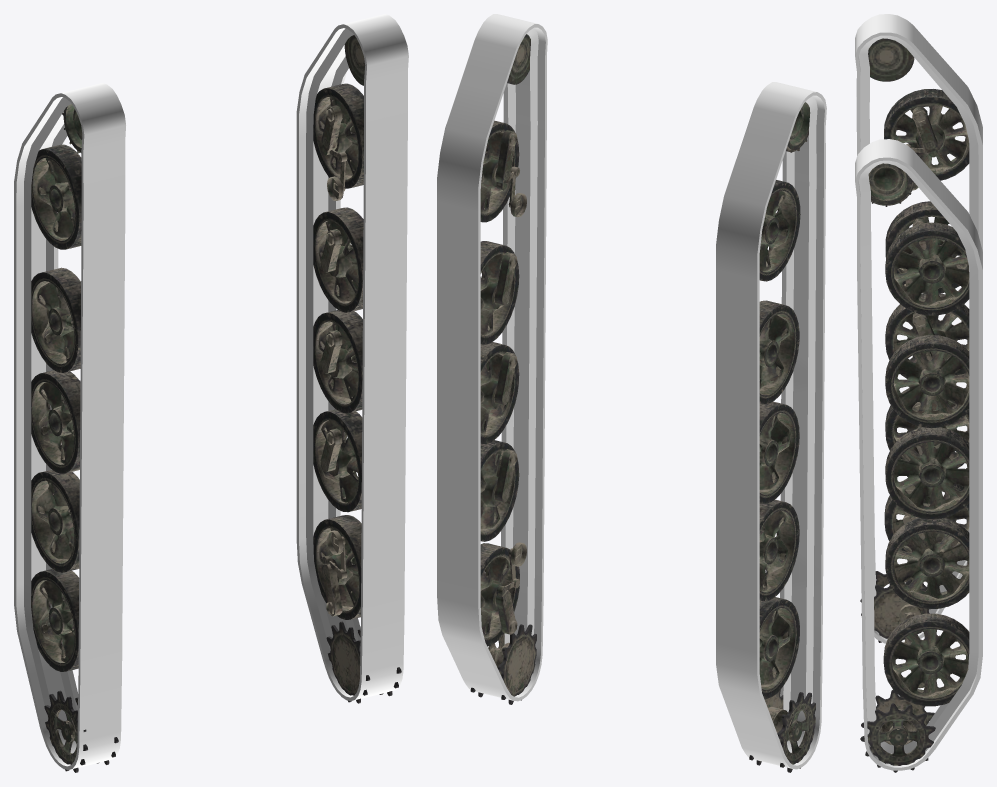
The model's file is Chassis.glb.
3 views of the same model, side by side, from view 1: azimuth 30°, elevation 25°; view 2: azimuth 150°, elevation 25°; view 3: azimuth 270°, elevation 25° (orthographic). The views are drawn at different scales.
Parts seen in each view (by area): view 1: set_0_group_0, set_1_group_0, set_3_group_0, set_2_group_0; view 2: set_0_group_0, set_1_group_0, set_3_group_0, set_2_group_0; view 3: set_3_group_0, set_1_group_0, set_2_group_0, set_0_group_0.
Boxes of the visible parts, x1,y1,x2,y2 form: set_0_group_0: (14, 83, 125, 770); set_1_group_0: (296, 14, 408, 701); set_3_group_0: (313, 35, 401, 703); set_2_group_0: (31, 104, 118, 772); set_0_group_0: (716, 82, 826, 769); set_1_group_0: (437, 14, 547, 701); set_3_group_0: (470, 34, 536, 704); set_2_group_0: (749, 102, 815, 772); set_3_group_0: (860, 163, 969, 772); set_1_group_0: (855, 139, 982, 770); set_2_group_0: (860, 38, 969, 642); set_0_group_0: (855, 14, 982, 643).
Bounding box in the file's own units: 2.76 × 5.52 × 1.04.
Materials: 4 (2 with a texture image).
